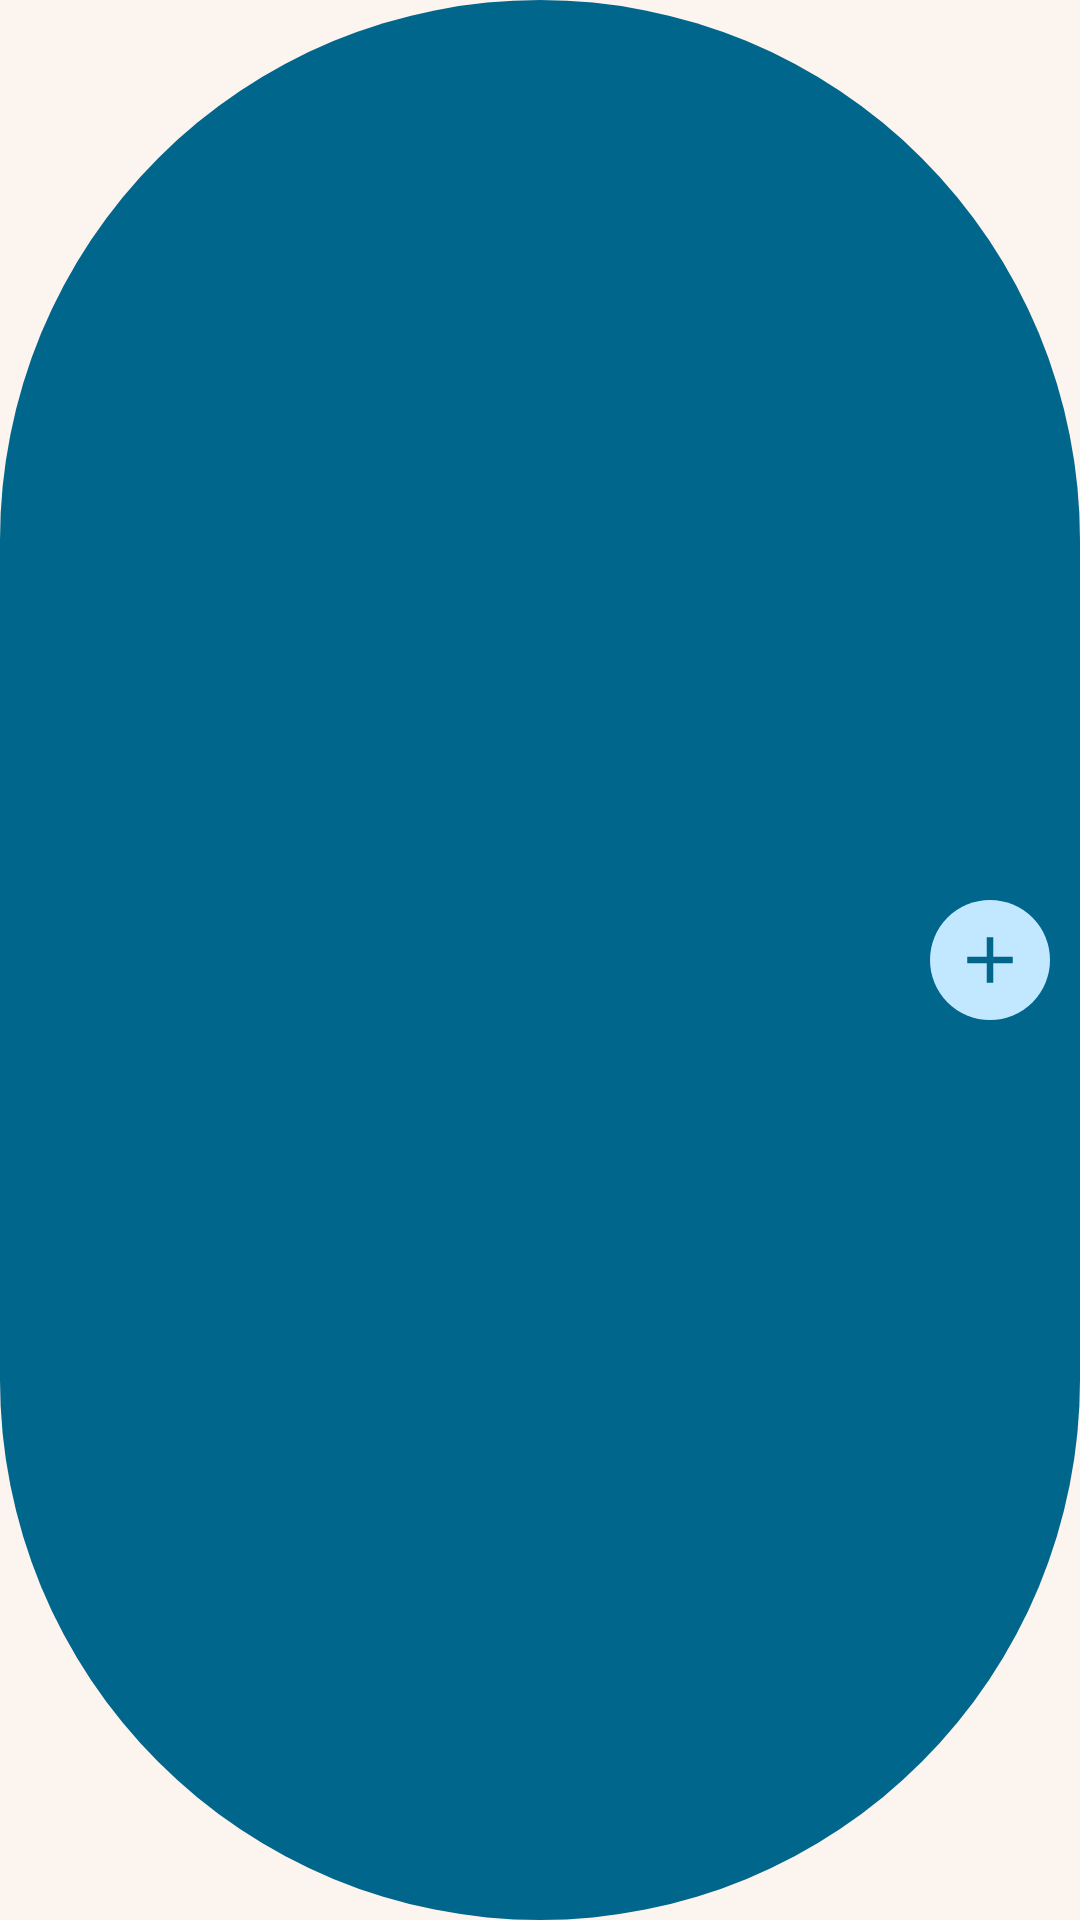

Screen size 1080 × 1920. Icon name, then its box in pixels as (x1, y1, x2, y2):
Add transaction: (967, 937, 1013, 983)
